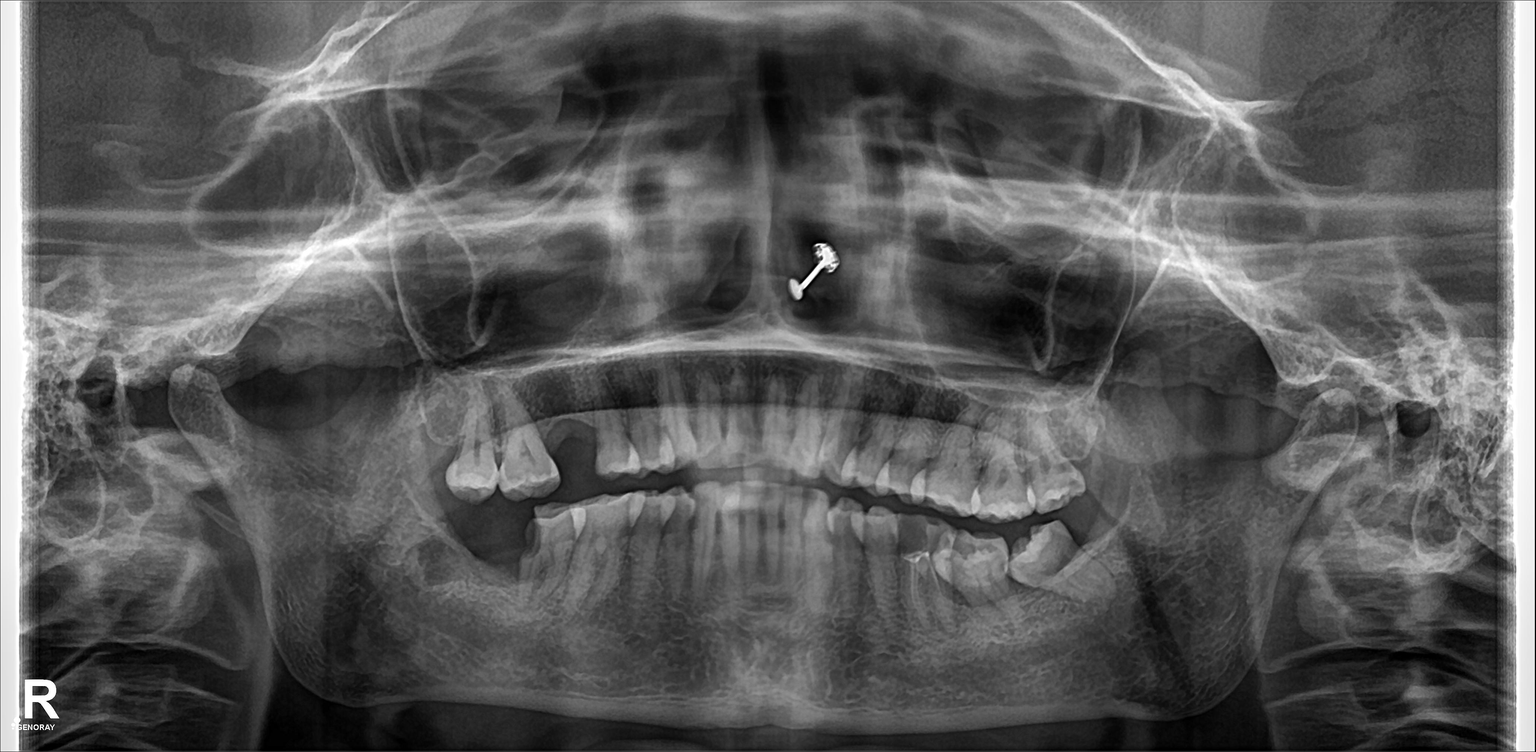Dental Caries: (523, 516, 548, 562), (898, 517, 927, 556)
Endodontically Treated Tooth: (894, 508, 949, 627)
Impacted Third Molar: (1015, 532, 1108, 590)
Missing Tooth: (557, 395, 602, 480), (417, 398, 454, 487), (449, 514, 487, 585), (492, 508, 518, 603)
